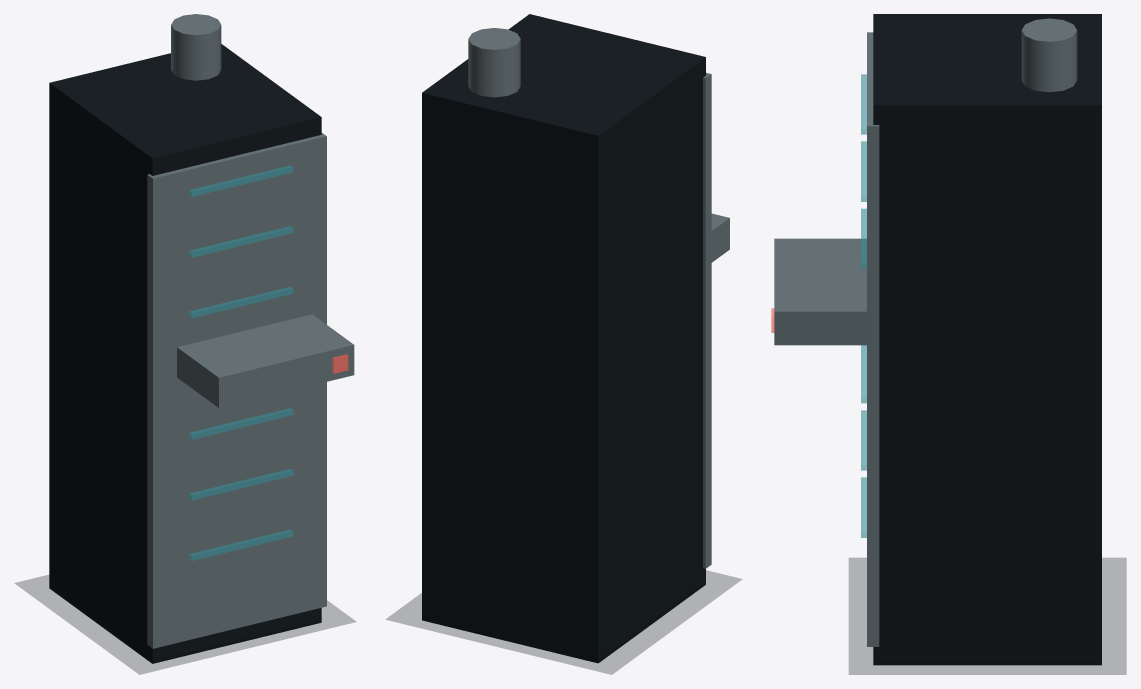
File: hp_room_cyber_server_rack.glb
3 views of the same model, side by side, from view 1: azimuth 30°, elevation 25°; view 2: azimuth 150°, elevation 25°; view 3: azimuth 270°, elevation 25° (orthographic). The views are drawn at different scales.
Visible parts, largest first — view 1: vent_panel, rack_body, pulled_tray, contact_shadow, exhaust, led_row_2, led_row_5, led_row_1, led_row_6, led_row_4, led_row_0; view 2: rack_body, contact_shadow, vent_panel, exhaust, pulled_tray; view 3: rack_body, pulled_tray, contact_shadow, vent_panel, exhaust.
Boxes of the visible parts, <box> form: vent_panel: <box>147,133,326,648</box>; rack_body: <box>49,44,321,663</box>; pulled_tray: <box>177,314,354,407</box>; contact_shadow: <box>15,575,355,674</box>; exhaust: <box>171,14,221,80</box>; led_row_2: <box>189,408,293,439</box>; led_row_5: <box>189,226,293,257</box>; led_row_1: <box>189,469,293,500</box>; led_row_6: <box>189,165,293,196</box>; led_row_4: <box>189,286,293,318</box>; led_row_0: <box>189,529,293,560</box>; rack_body: <box>422,14,705,663</box>; contact_shadow: <box>386,570,741,674</box>; vent_panel: <box>703,72,711,568</box>; exhaust: <box>468,28,520,97</box>; pulled_tray: <box>711,213,729,262</box>; rack_body: <box>873,14,1101,665</box>; pulled_tray: <box>774,238,866,345</box>; contact_shadow: <box>849,558,1126,674</box>; vent_panel: <box>867,32,879,646</box>; exhaust: <box>1021,18,1077,92</box>.
Size of the model in its own units: 0.9 by 2.18 by 1.15.
